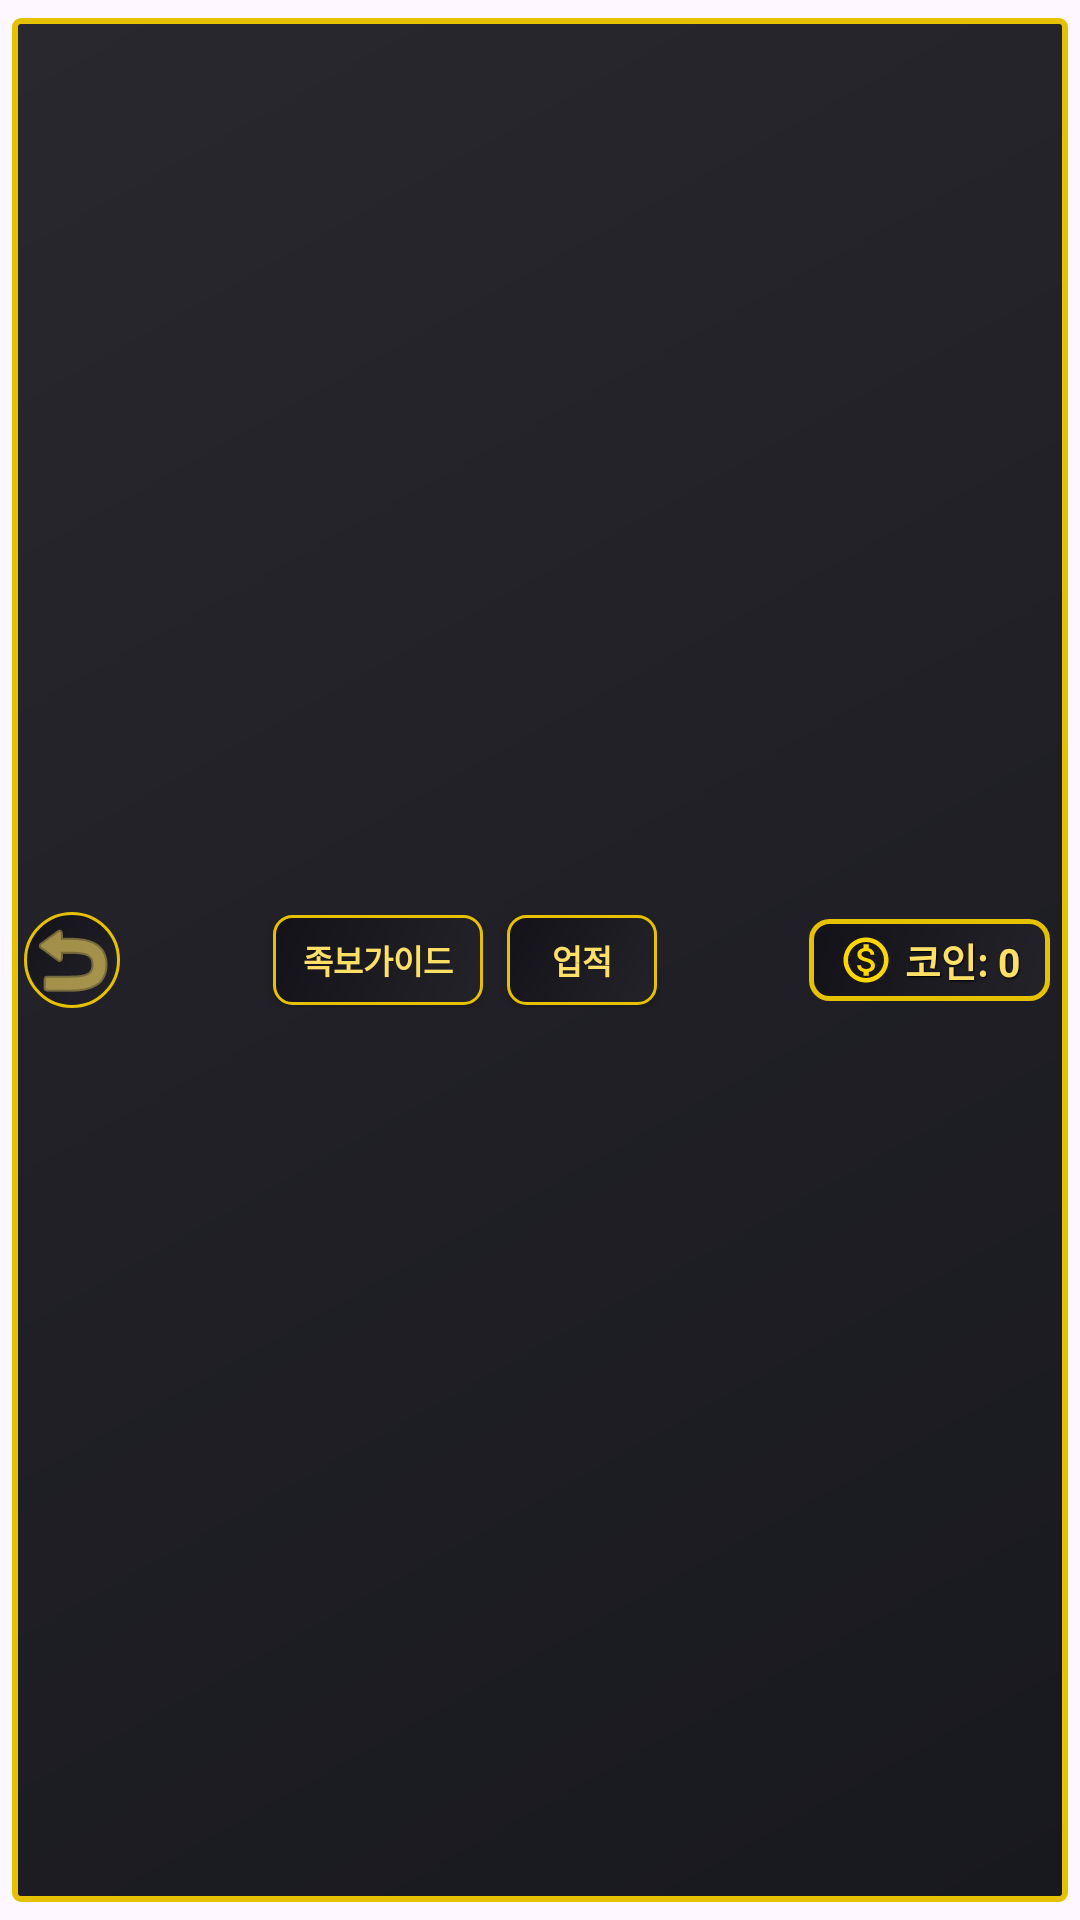

Where to tap for icons on this 1080 × 1920 app screen, as (x,y):
coin: (866,960)
뒤로가기: (72,960)
